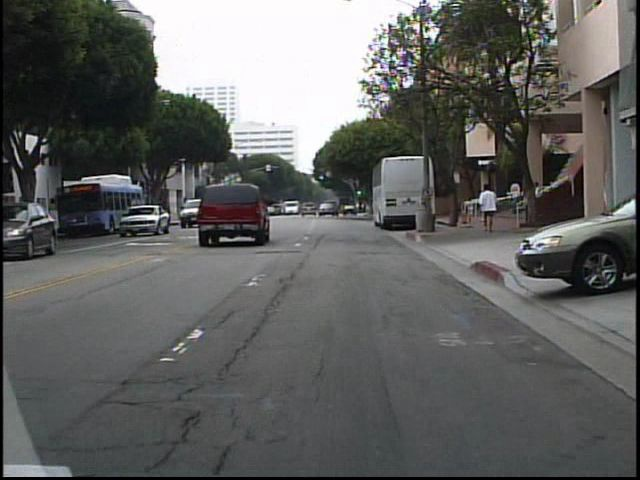person: (478, 183, 502, 237), (463, 195, 477, 226)
